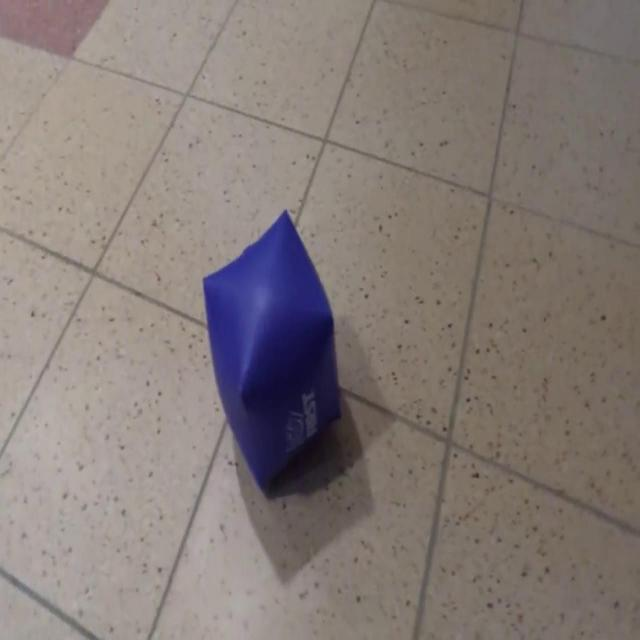frc_cube: (203, 209, 341, 486)
